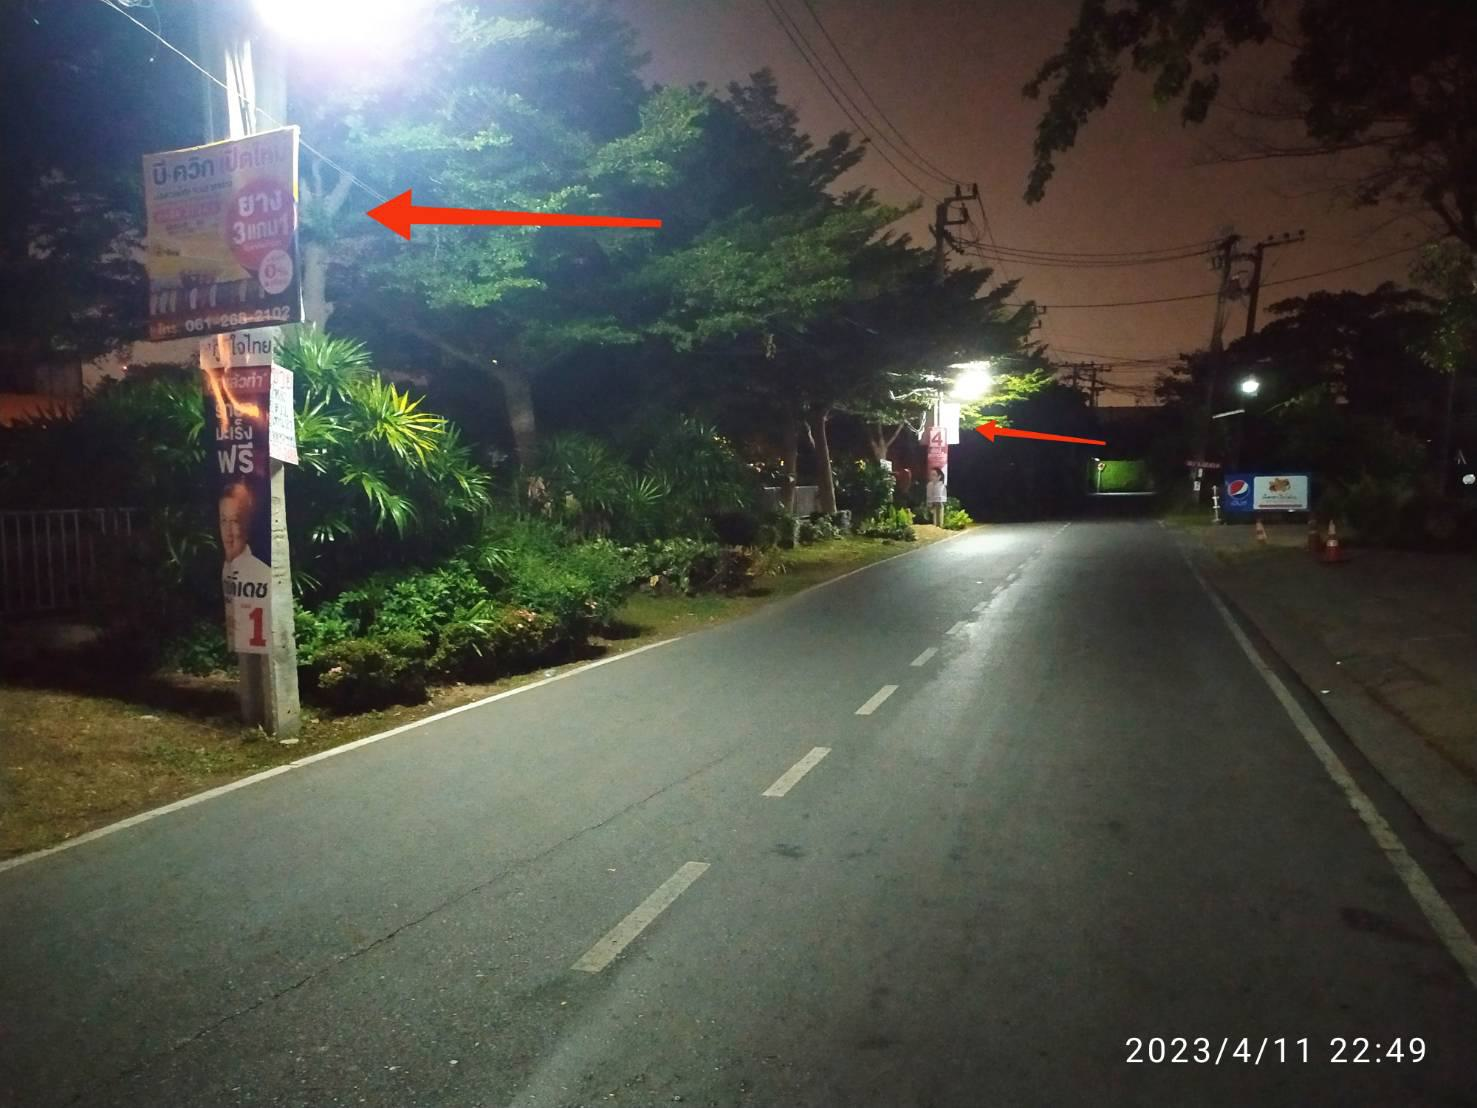Banner: (204, 321, 286, 681)
